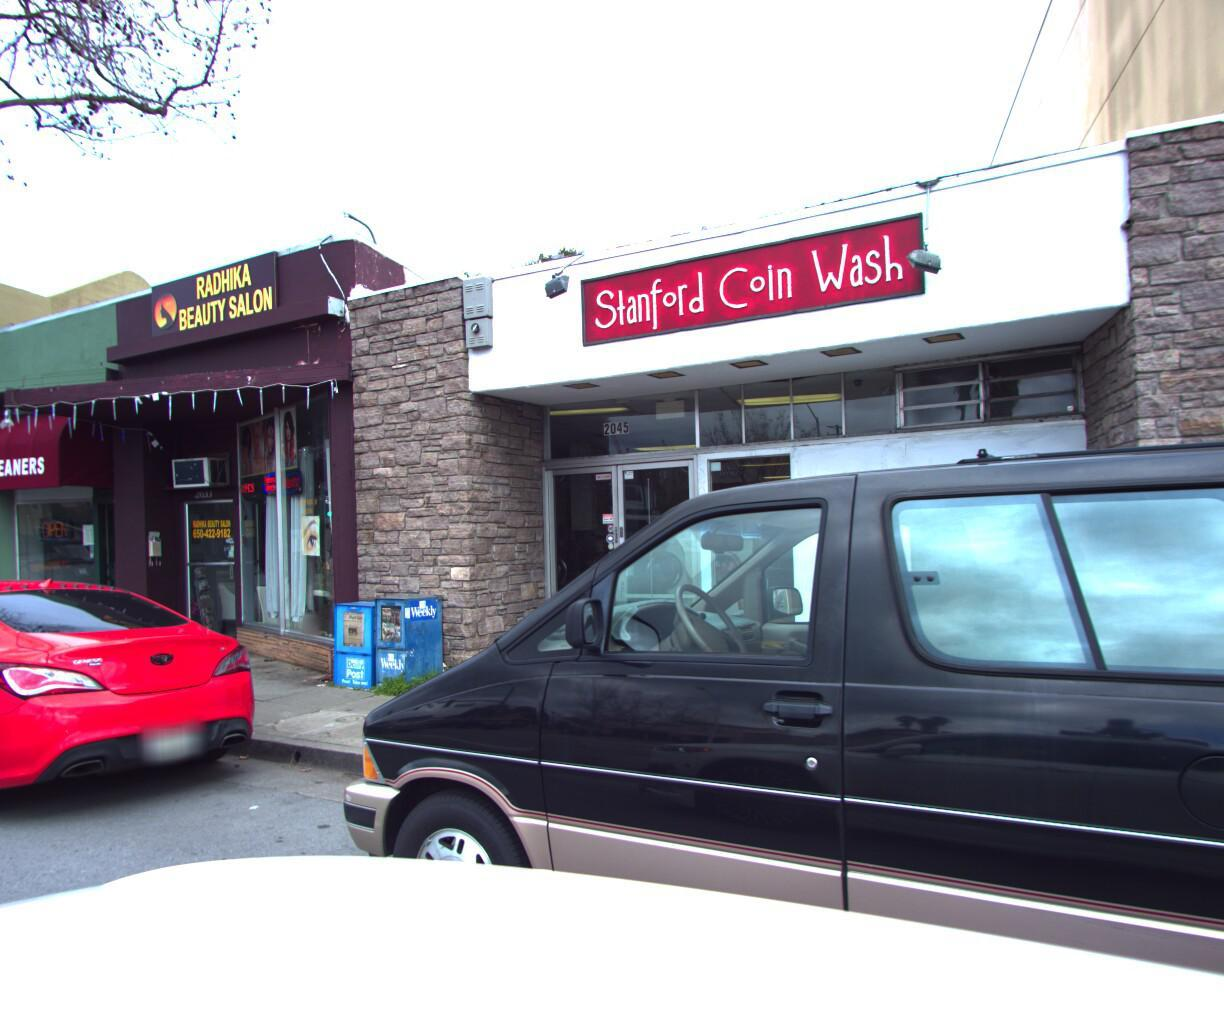car: (249, 176, 1224, 1024), (0, 560, 293, 875)
